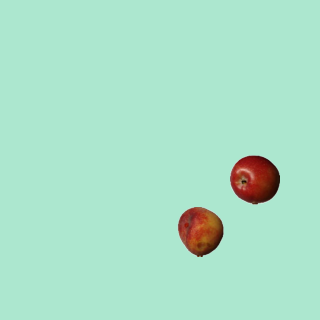Apple Braeburn: (229, 154, 279, 204)
Peach: (175, 206, 225, 256)
